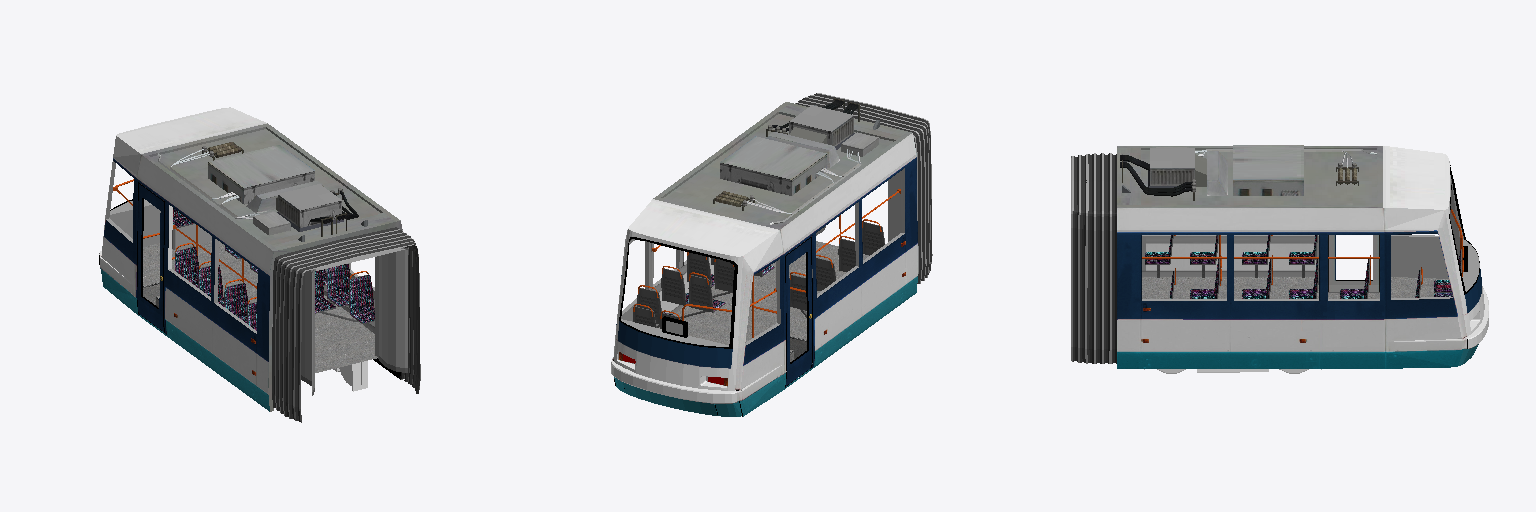
3 renders of one model, left to right at view 1: azimuth 30°, elevation 25°; view 2: azimuth 150°, elevation 25°; view 3: azimuth 270°, elevation 25°, orthographic.
Visible parts, largest first — view 1: EXT, INT, DOOR_B; view 2: EXT, INT, DOOR_B; view 3: EXT, INT, DOOR_B.
Boxes of the visible parts, x1=… form: EXT: x1=99, y1=107, x2=420, y2=422; INT: x1=105, y1=161, x2=408, y2=395; DOOR_B: x1=137, y1=182, x2=164, y2=332; EXT: x1=611, y1=93, x2=932, y2=416; INT: x1=619, y1=168, x2=905, y2=388; DOOR_B: x1=785, y1=237, x2=812, y2=386; EXT: x1=1071, y1=145, x2=1488, y2=373; INT: x1=1142, y1=179, x2=1479, y2=342; DOOR_B: x1=1328, y1=235, x2=1379, y2=291.
Bounding box in the file's own units: 2.59 × 3.5 × 6.76.
Materials: 23 (13 with a texture image).